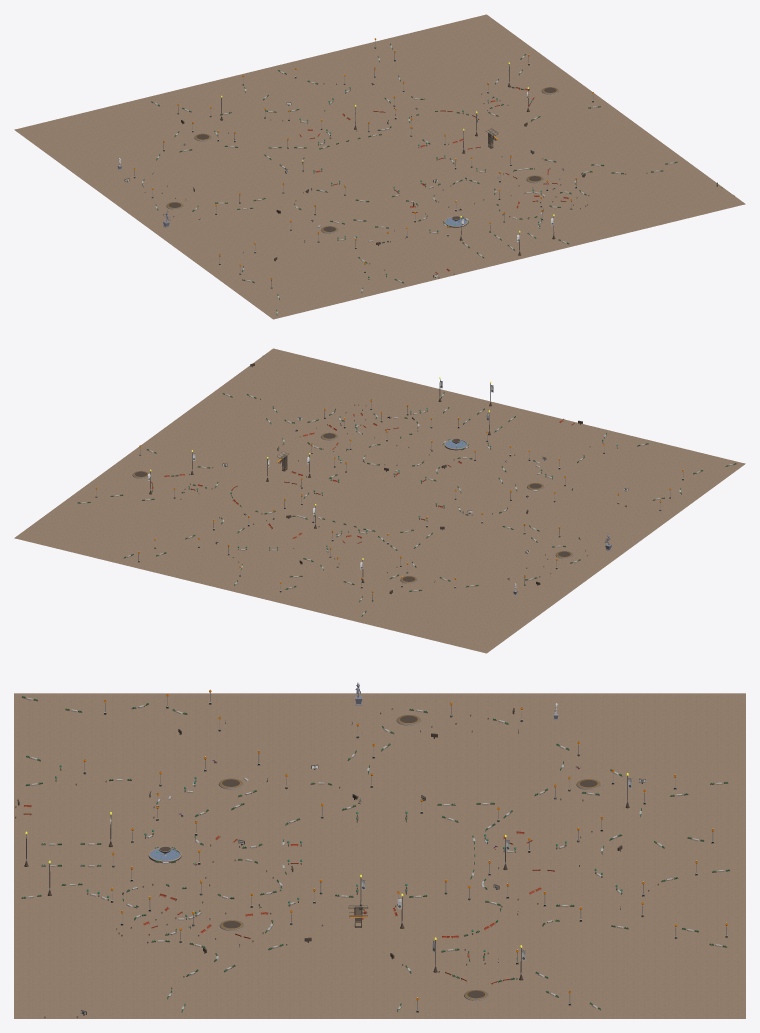
File: street.glb
3 renders of one model, top to bottom at view 1: azimuth 30°, elevation 25°; view 2: azimuth 150°, elevation 25°; view 3: azimuth 270°, elevation 25°, orthographic. The views are drawn at different scales.
Visible parts, largest first — view 1: Ground; view 2: Ground; view 3: Ground.
Part boxes in pixels (x1=…): Ground: x1=14, y1=14, x2=745, y2=319; Ground: x1=14, y1=348, x2=745, y2=653; Ground: x1=14, y1=693, x2=745, y2=1018.
Size of what is drawn, in the model's own units: 320 by 16.16 by 304.
Materials: 8 (8 with a texture image).
